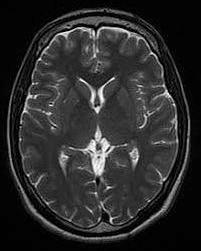Normal_Brain: (2, 2, 201, 251)
